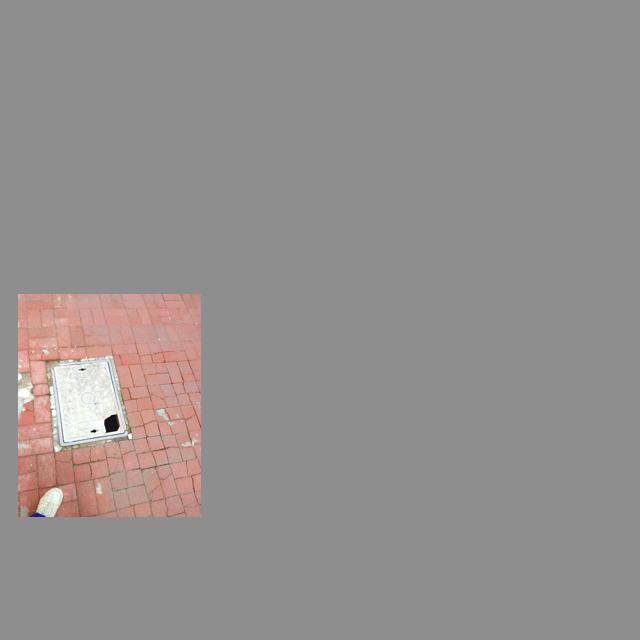broke: (50, 359, 128, 446)
